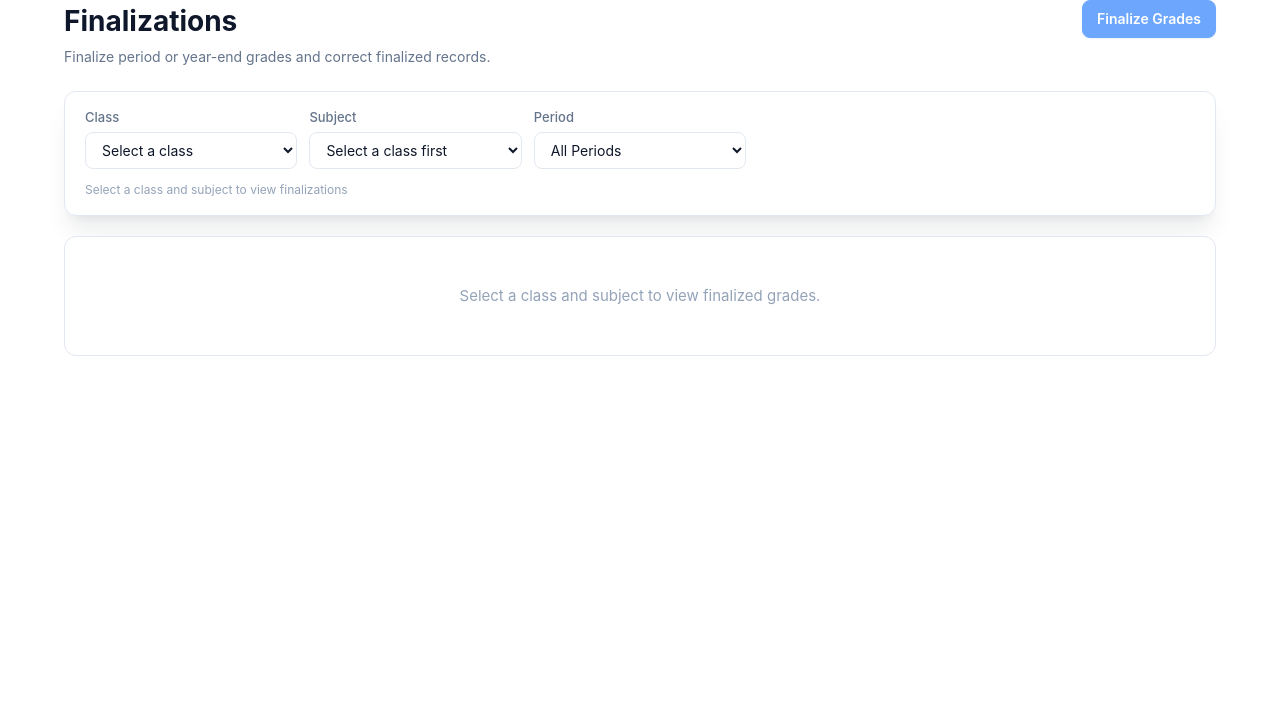
Test: FinalizationsPage › validates the correction reason and the 0-100 grade range
Select "Grade 7 · Diamond" in the 1st dropdown showing "Select a class": (191, 150) top-left (85, 132), bottom-right (297, 168)
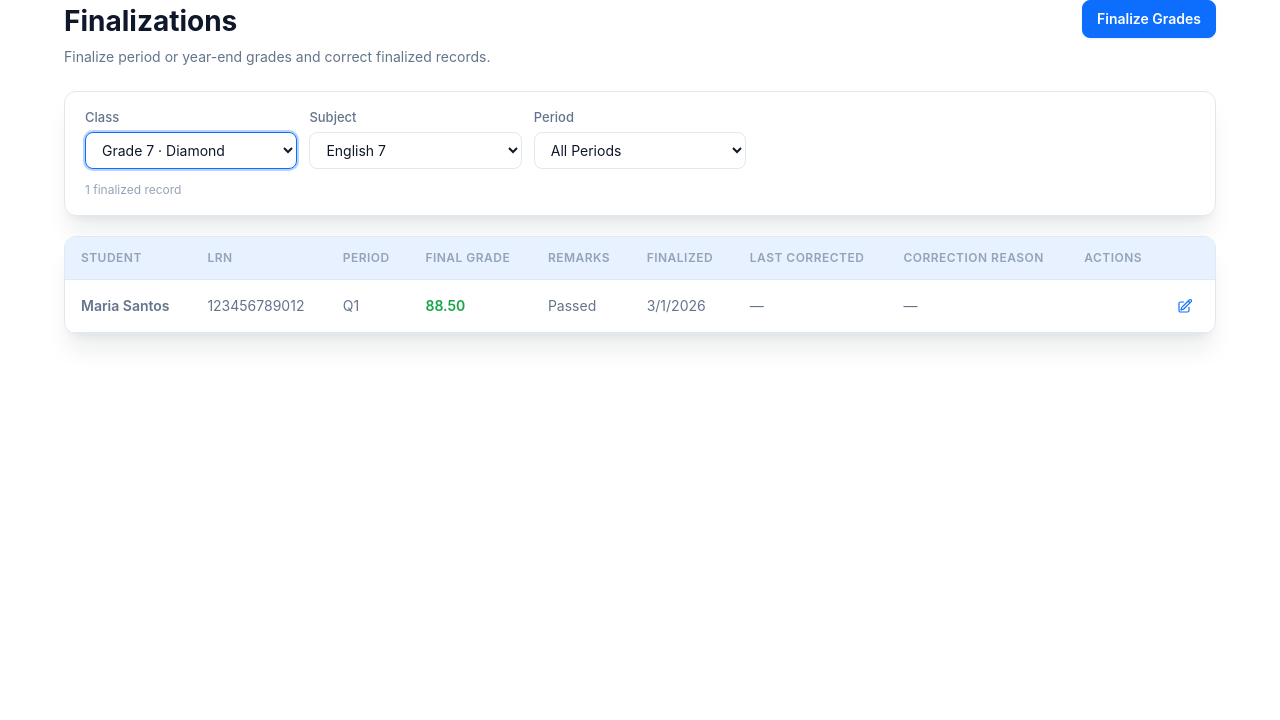
Expected: the text "Maria Santos" is shown, top-left (65, 279), bottom-right (191, 332)
Click the button named "Correct finalized grade": (1185, 306) top-left (1171, 292), bottom-right (1199, 320)
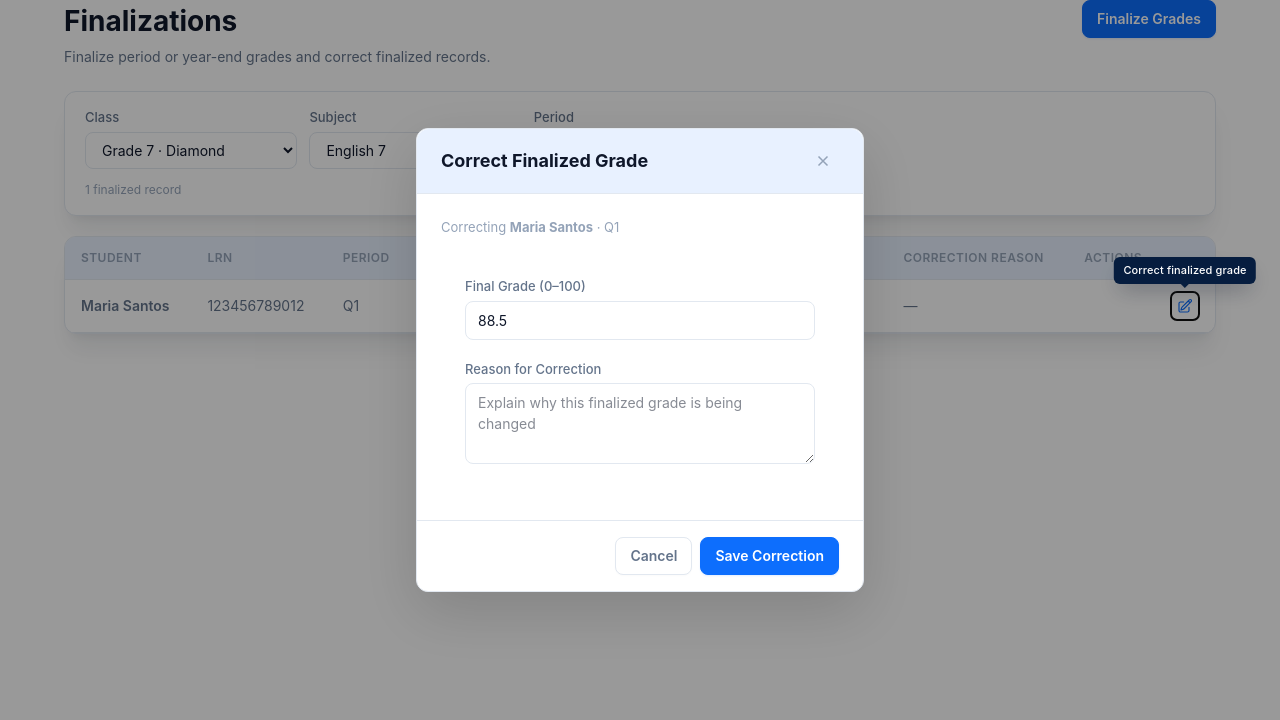
Expected: the heading "Correct Finalized Grade" is shown, top-left (441, 147), bottom-right (648, 174)
Click the button "Save Correction": (770, 556) top-left (700, 537), bottom-right (839, 575)
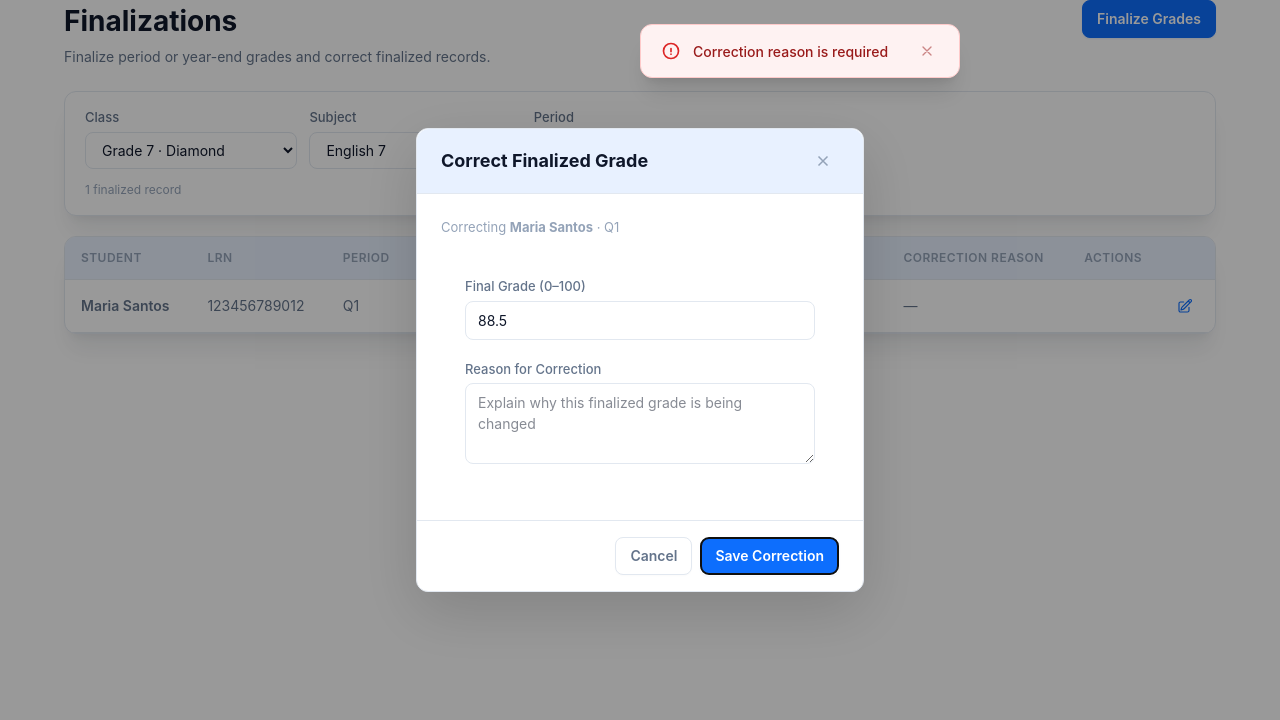
Expected: the text "Correction reason is required" is shown, top-left (693, 40), bottom-right (903, 62)
Replace the text in the number field showing "88.5" with "150": (640, 320) top-left (465, 301), bottom-right (815, 340)
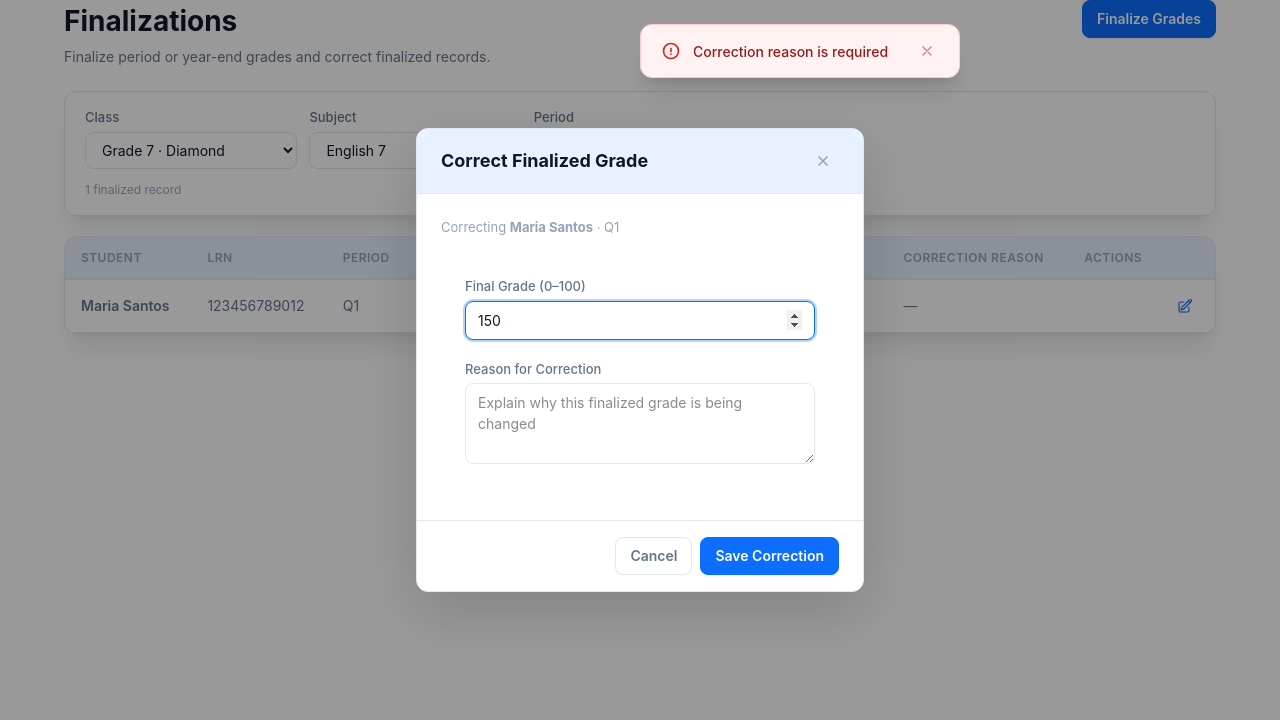
In the text box with placeholder "Explain why this finalized grade is being changed": (640, 424) top-left (465, 383), bottom-right (815, 464), type "Encoding error"
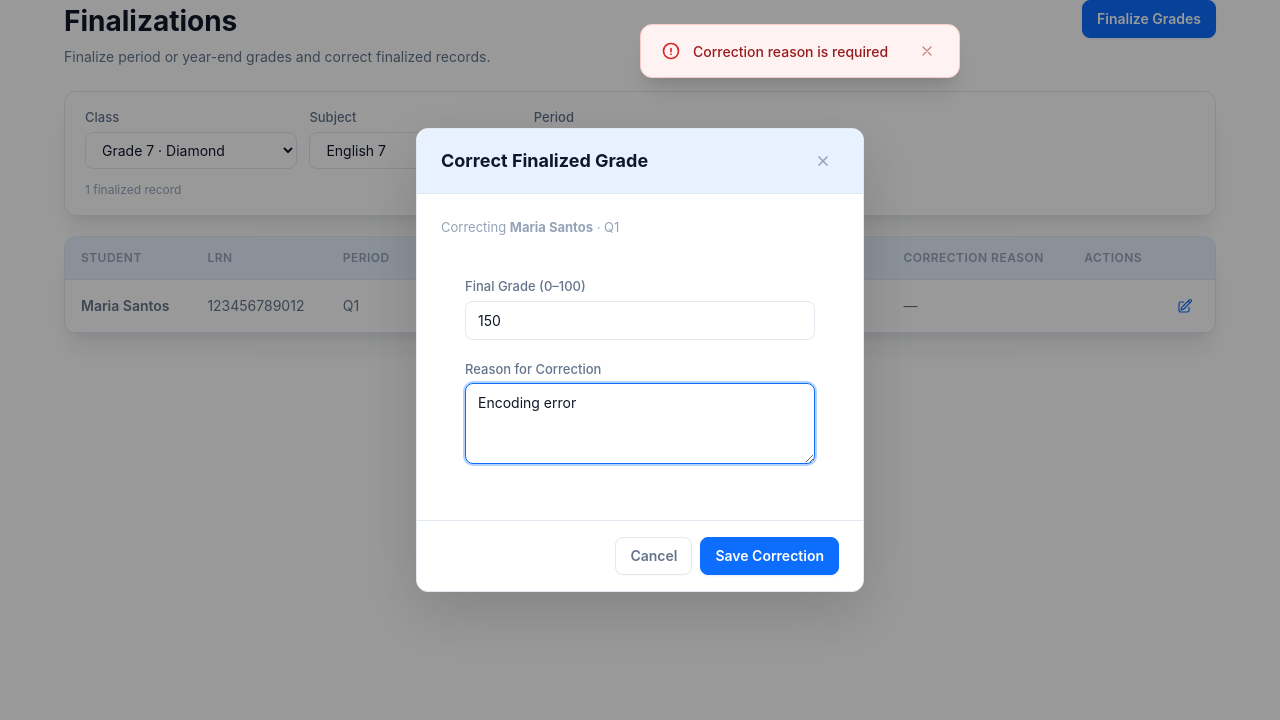
Click the button "Save Correction": (770, 556) top-left (700, 537), bottom-right (839, 575)
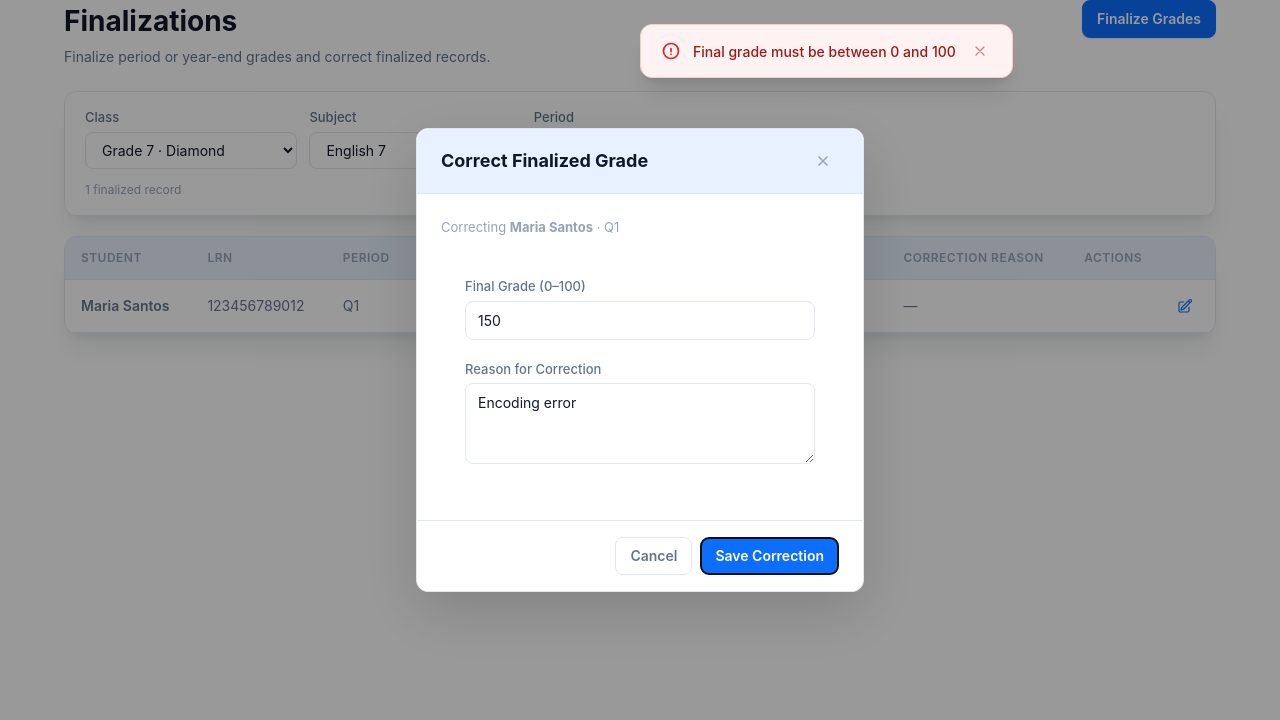
Expected: the text "Final grade must be between 0 and 100" is shown, top-left (693, 40), bottom-right (956, 62)
